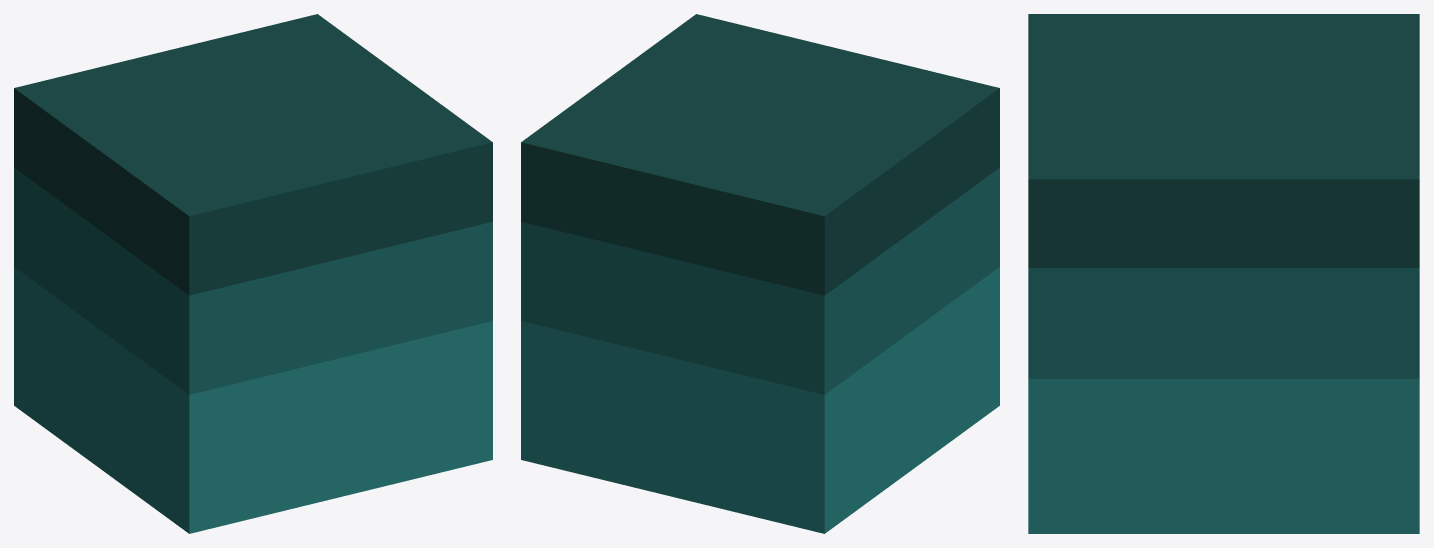
File: WinterGrass-16.obj
The picture shows the model from 3 angles, left to right: view 1: azimuth 30°, elevation 25°; view 2: azimuth 150°, elevation 25°; view 3: azimuth 270°, elevation 25°; orthographic projection. The views are drawn at different scales.
Size of the model in its own units: 1.6 by 1.6 by 1.6.
1 material, 1 textured.
